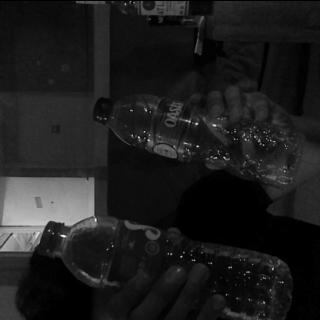plastic_bottles: (39, 216, 288, 314), (92, 96, 299, 186)
